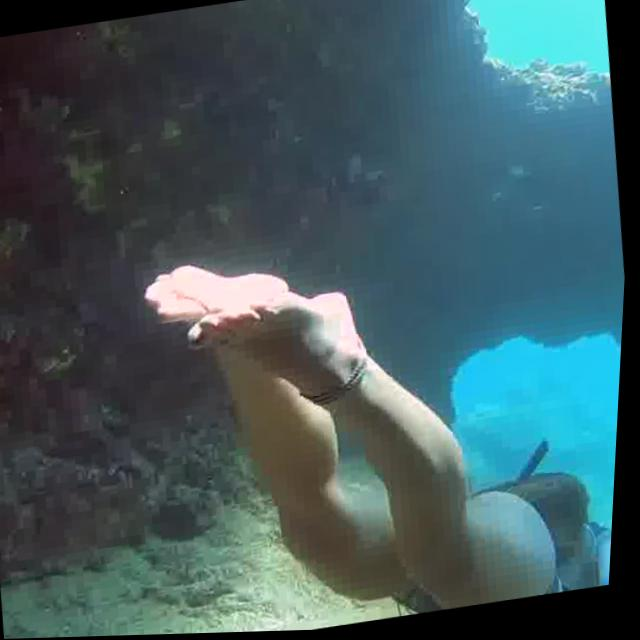human: (113, 187, 632, 637)
